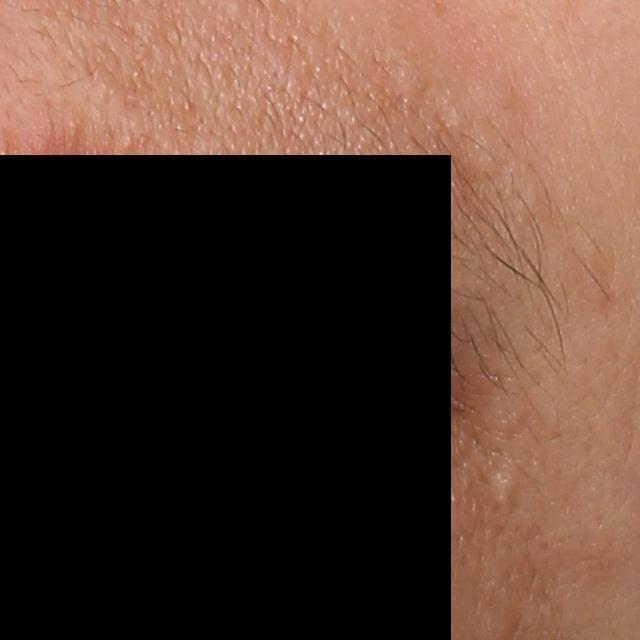hypertrophic_scar: (491, 470, 522, 519)
